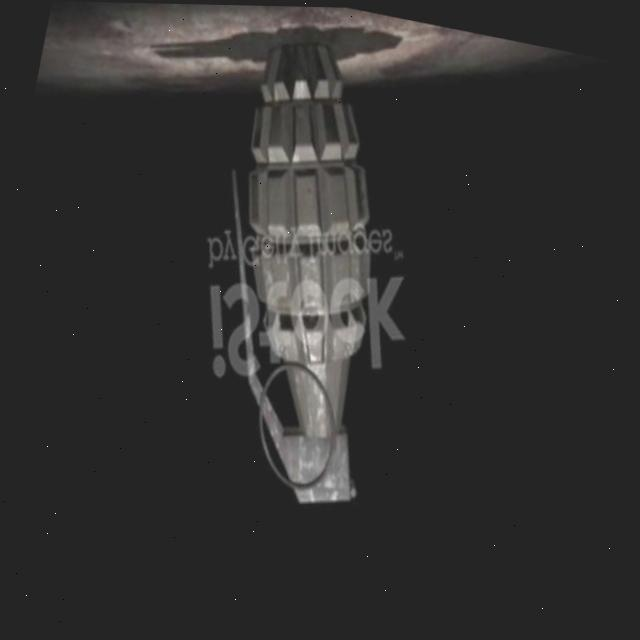grenade: (138, 13, 470, 539)
